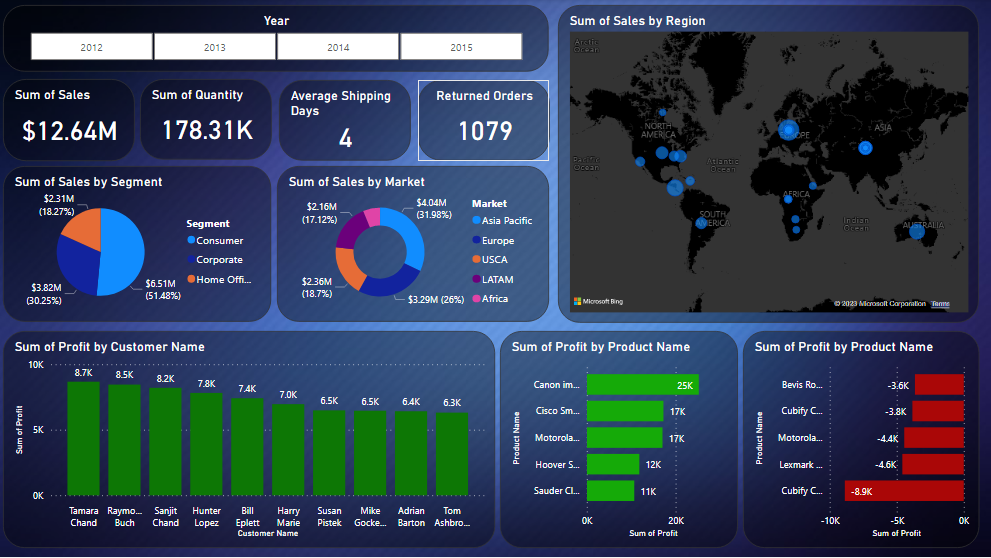

The dashboard page shown, as its layout file describes it:
{"tool":"powerbi","page":{"name":"Page 1","canvas":[1280,720],"ordinal":0},"visuals":[{"type":"card","title":"Sum of Sales","fields":{"Values":["Orders.Sales"]},"box":[5.7,102.9,170,105.7],"z":0},{"type":"card","title":"Sum of Quantity","fields":{"Values":["Orders.Quantity"]},"box":[181.4,102.9,170,104.3],"z":1000},{"type":"card","title":"Average Shipping Days","fields":{"Values":["Orders.Shipping Days"]},"box":[361.4,104.3,170,104.3],"z":2000},{"type":"slicer","title":"Year","fields":{"Values":["Orders.Year"]},"box":[5.7,7.1,704.3,85.7],"z":3000},{"type":"card","title":"Returned Orders","fields":{"Values":["Returns.Return Orders"]},"box":[540,104.3,170,104.3],"z":4000},{"type":"map","fields":{"Category":["Orders.Region"],"Size":["Orders.Sales"]},"box":[721.4,7.1,542.9,410],"z":5000},{"type":"barChart","fields":{"Category":["Orders.Product Name"],"Y":["Orders.Profit"]},"box":[646.7,428.3,306.7,280],"z":6000},{"type":"barChart","fields":{"Category":["Orders.Product Name"],"Y":["Orders.Profit"]},"box":[960,428.3,305,280],"z":7000},{"type":"pieChart","fields":{"Category":["Orders.Segment"],"Y":["Orders.Sales"]},"box":[5.7,215.7,345.7,201.4],"z":7001},{"type":"donutChart","fields":{"Category":["Orders.Market"],"Y":["Orders.Sales"]},"box":[358.6,215.7,351.4,201.4],"z":7002},{"type":"columnChart","fields":{"Category":["Orders.Customer Name"],"Y":["Orders.Profit"]},"box":[5,428.3,635,280],"z":7003}]}

Visuals, with their boxes in screenshot pixels (x1, y1, x2, y2), scaled from the page's 1280x720 canvas onto the 991x558 screenshot:
"Sum of Sales" card: detection(4, 80, 136, 162)
"Sum of Quantity" card: detection(140, 80, 272, 161)
"Average Shipping Days" card: detection(280, 81, 411, 162)
"Year" slicer: detection(4, 6, 550, 72)
"Returned Orders" card: detection(418, 81, 550, 162)
map - Orders.Region x Orders.Sales: detection(559, 6, 979, 323)
barChart - Orders.Product Name x Orders.Profit: detection(501, 332, 738, 549)
barChart - Orders.Product Name x Orders.Profit: detection(743, 332, 979, 549)
pieChart - Orders.Segment x Orders.Sales: detection(4, 167, 272, 323)
donutChart - Orders.Market x Orders.Sales: detection(278, 167, 550, 323)
columnChart - Orders.Customer Name x Orders.Profit: detection(4, 332, 496, 549)
